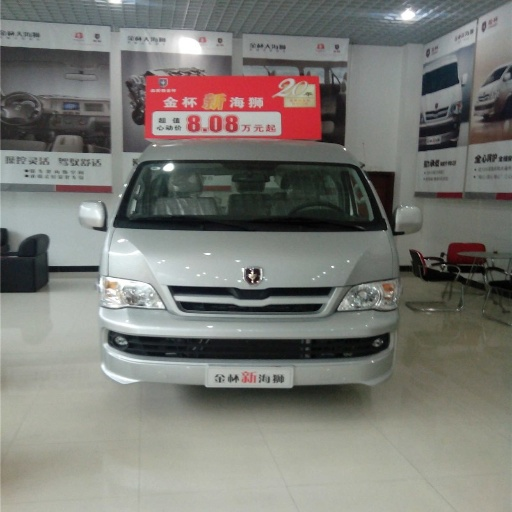front_bumper: (100, 256, 399, 386)
front_right_light: (99, 273, 161, 308)
hood: (268, 231, 393, 284), (113, 230, 215, 283)
